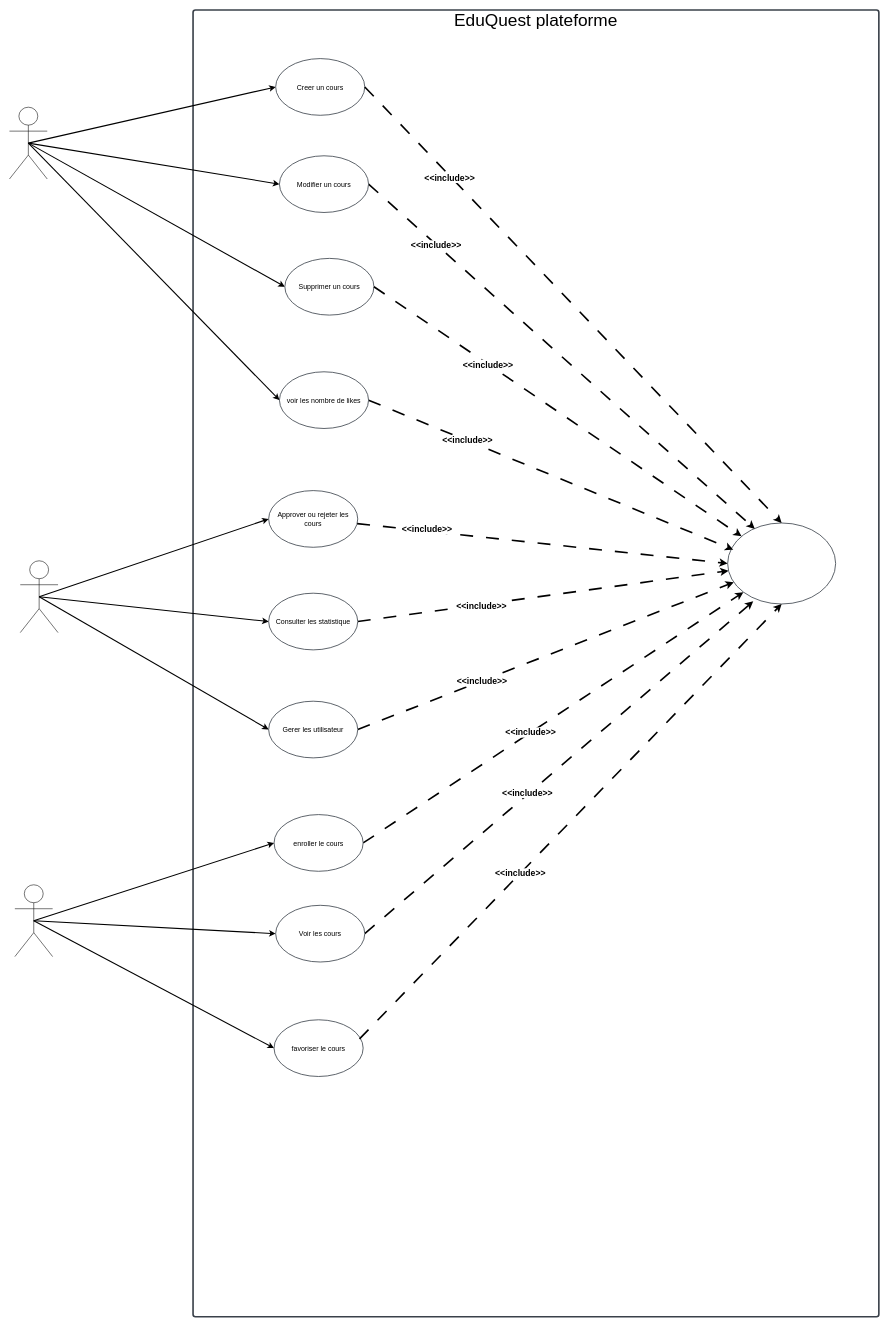
This 889x1327 diagram has some shape labels left out. The shapes that lost their labels are listed below. From the top down, each one's centre as x and y in pixels, then its label:
At (x=28, y=143): "Teacher".
At (x=781, y=563): "Login".
At (x=39, y=596): "Admin".
At (x=33, y=920): "Student".
